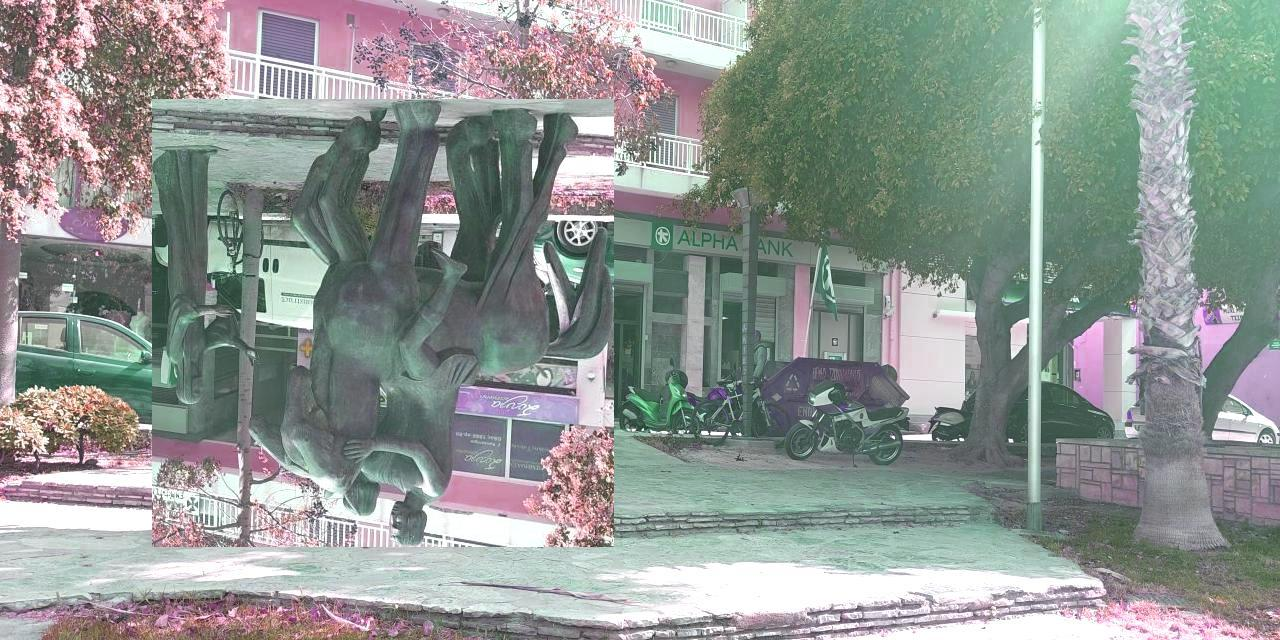Aretousa: (153, 100, 615, 548)
